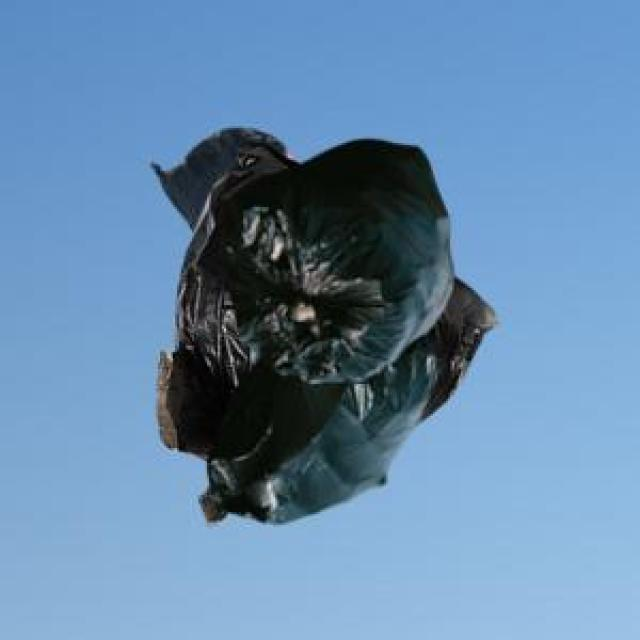Vinyl: (154, 129, 495, 522)
